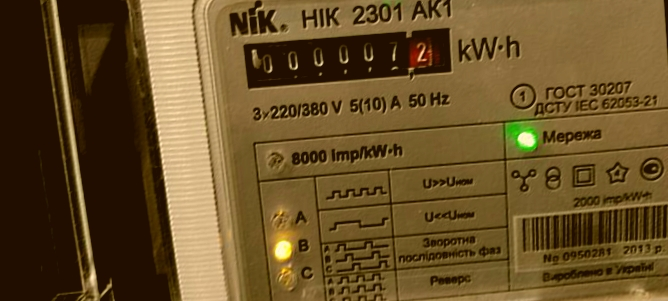0: (335, 42, 351, 66), (259, 50, 274, 75), (360, 39, 375, 63), (285, 48, 299, 71), (311, 45, 325, 68)
2: (413, 40, 428, 64)
7: (386, 38, 400, 62)
screen: (231, 17, 462, 98)
